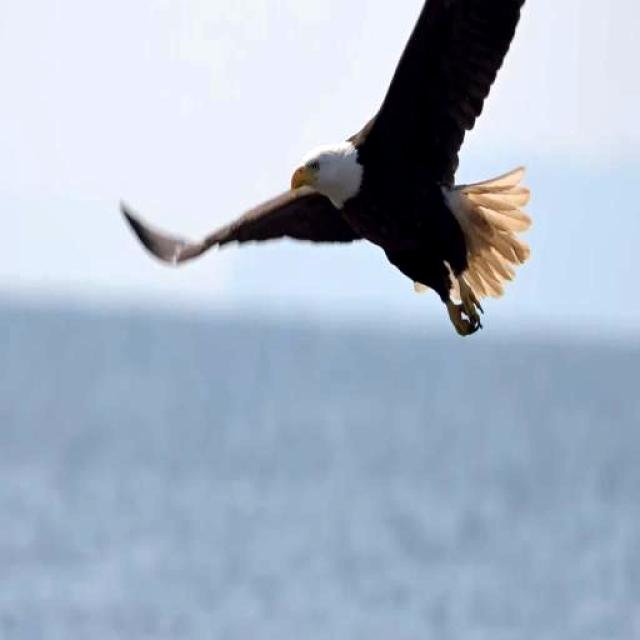airplane: (90, 0, 624, 402)
